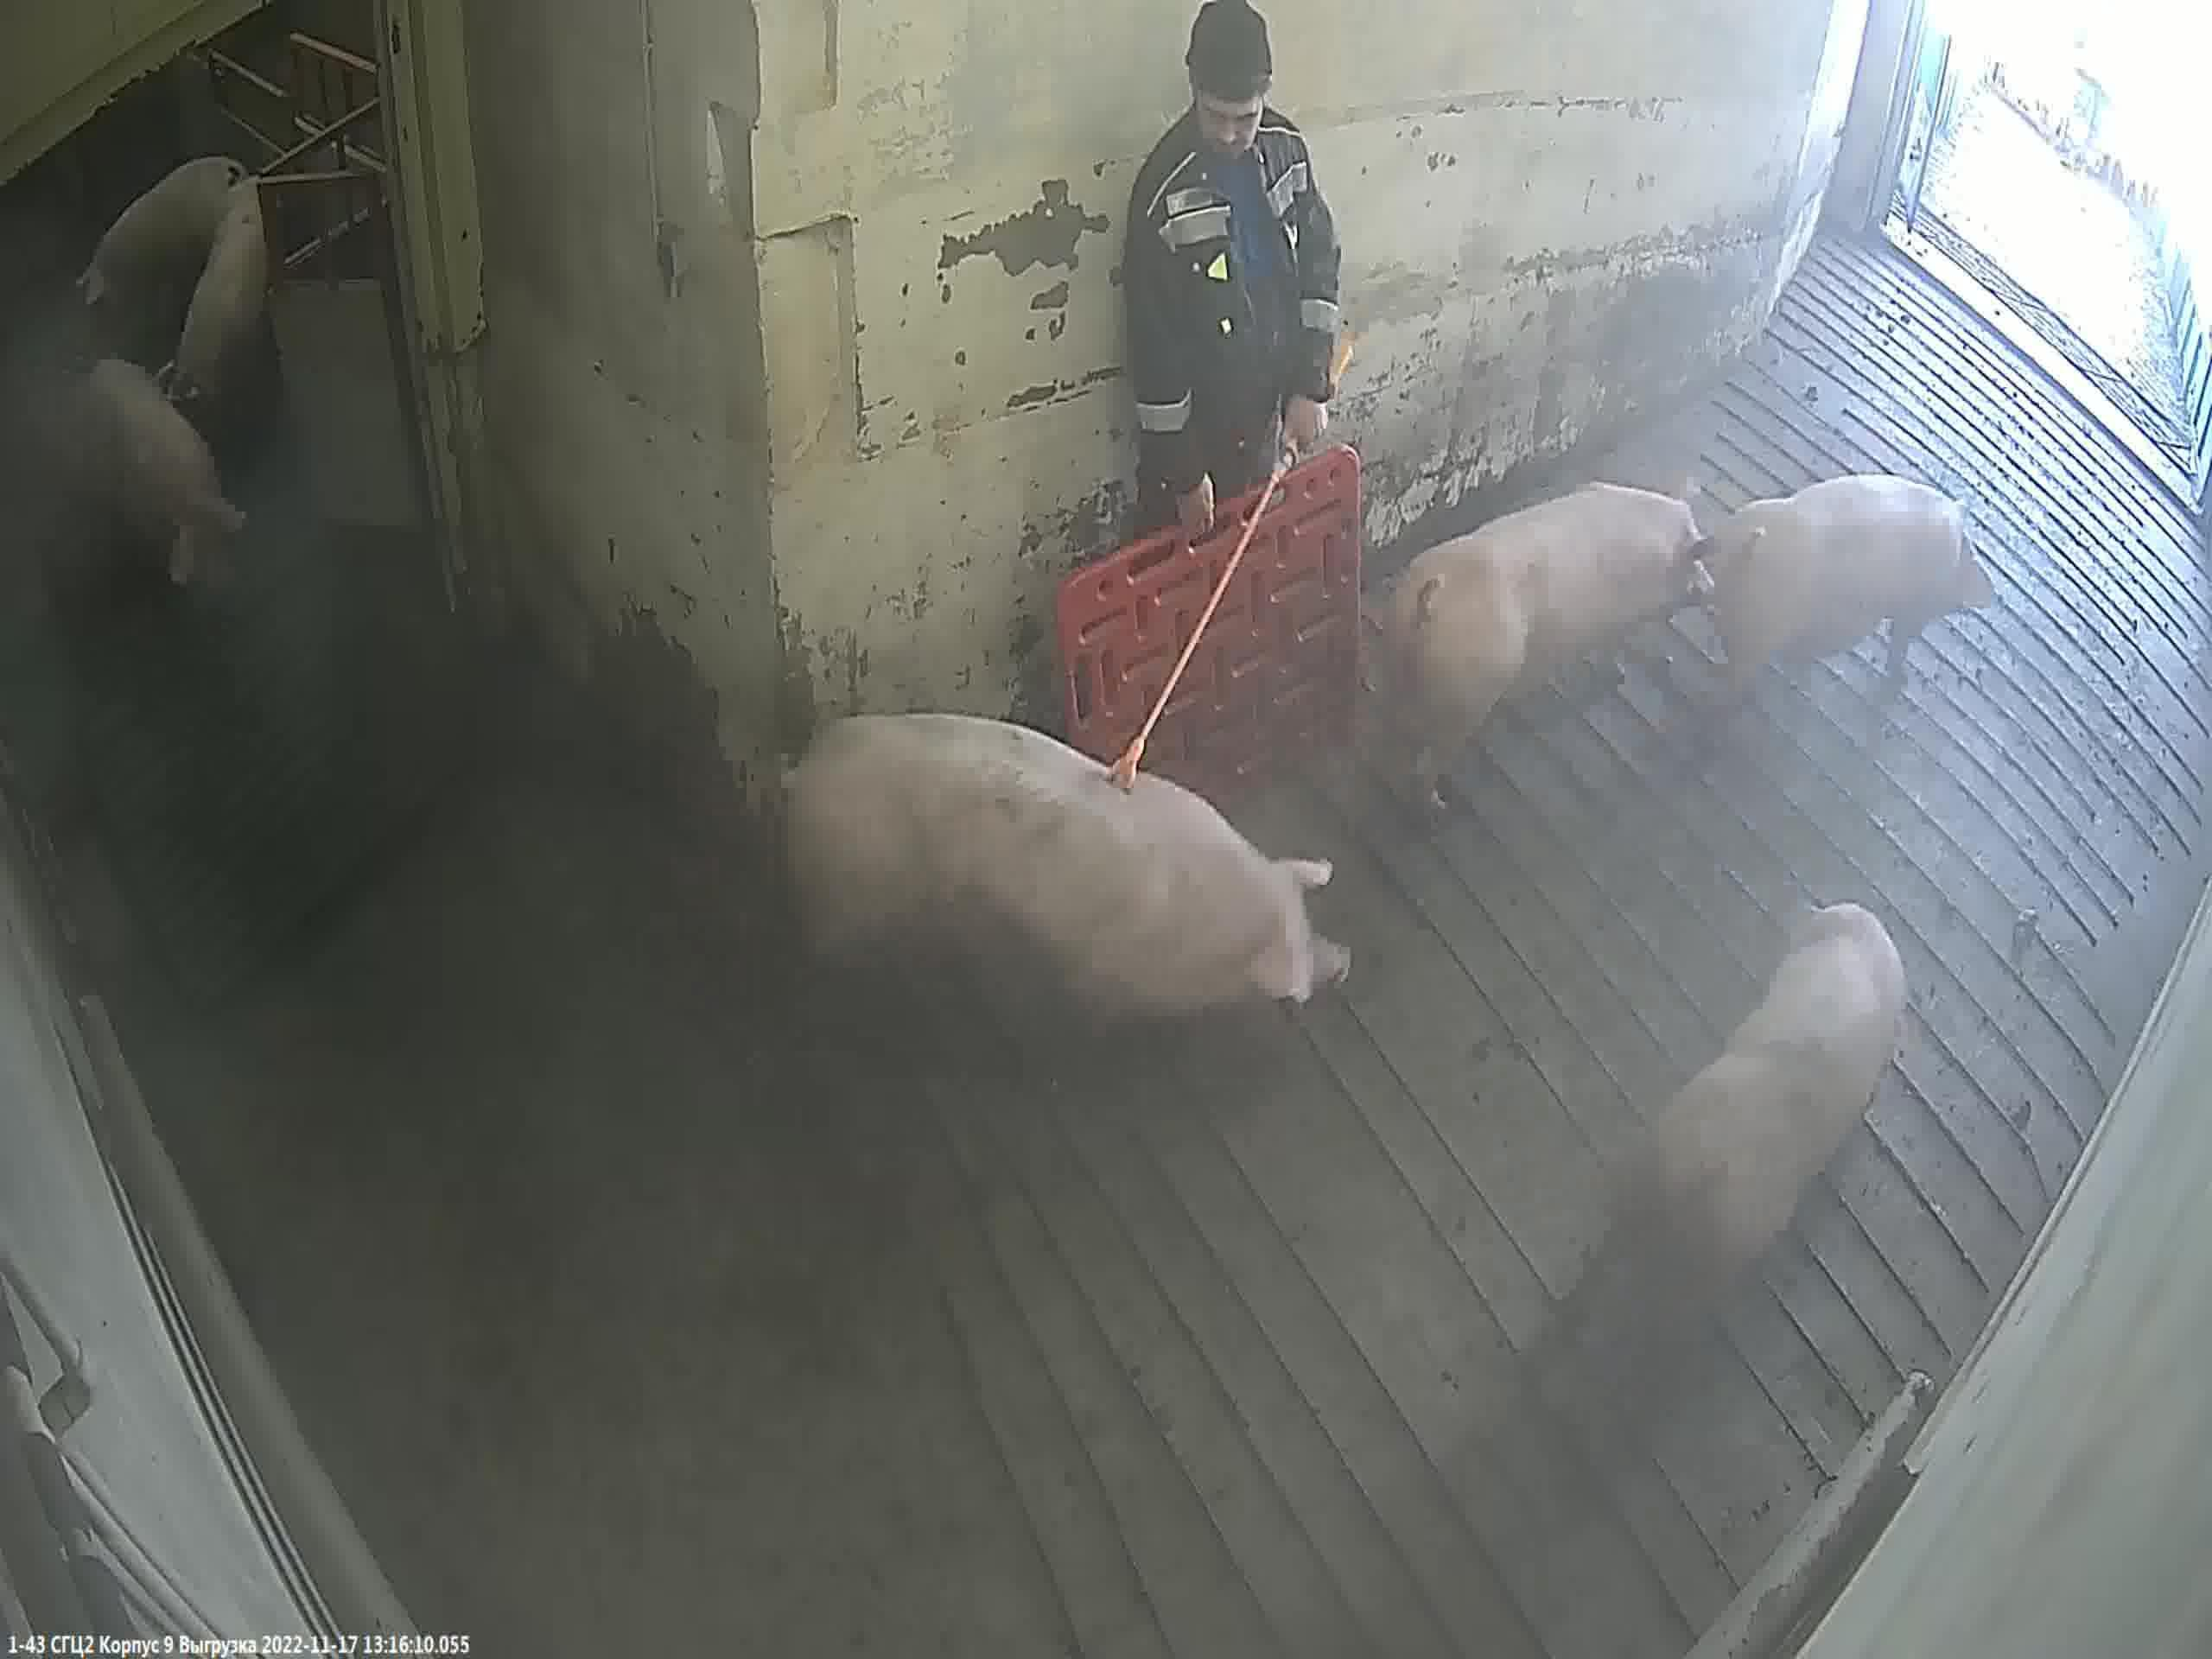Pigs: (784, 716, 1343, 1058), (1639, 901, 1911, 1326), (1395, 486, 1710, 810), (1731, 476, 1989, 714), (91, 359, 247, 591), (84, 157, 247, 336), (160, 188, 280, 418)
